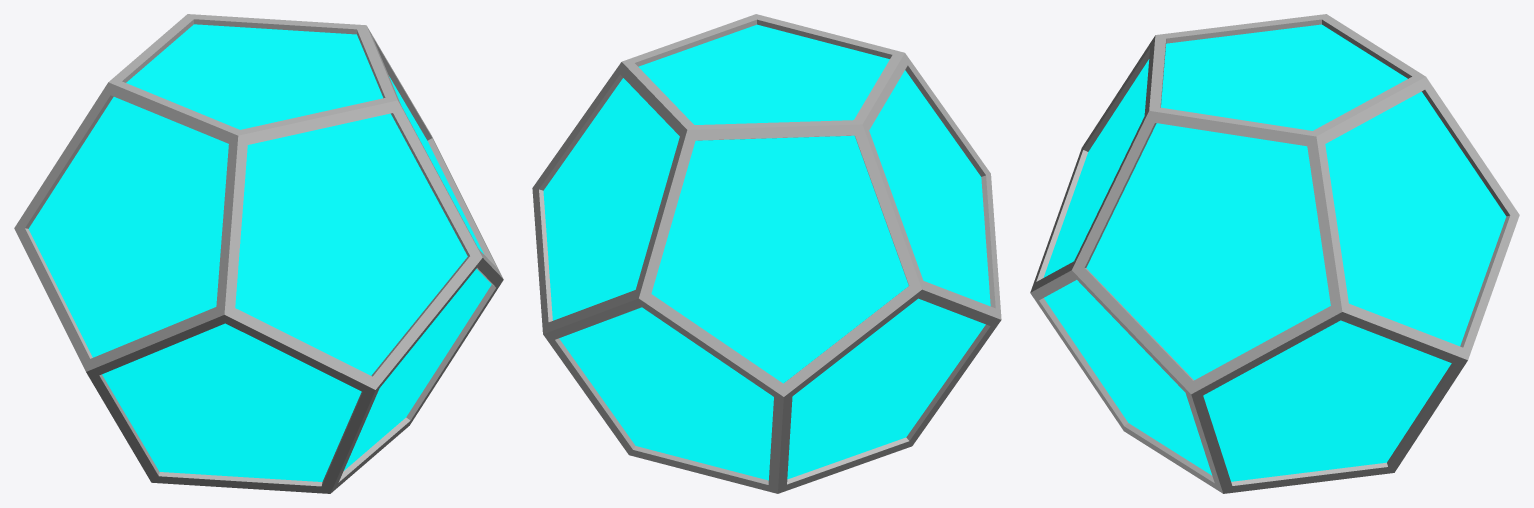
The model's file is SFI0210006.fbx.
The picture shows the model from 3 angles, left to right: view 1: azimuth 30°, elevation 25°; view 2: azimuth 150°, elevation 25°; view 3: azimuth 270°, elevation 25°; orthographic projection. The views are drawn at different scales.
Parts seen in each view (by area): view 1: smSFI0210006; view 2: smSFI0210006; view 3: smSFI0210006.
Part boxes in pixels (x1=…): smSFI0210006: x1=14, y1=14, x2=503, y2=493; smSFI0210006: x1=532, y1=14, x2=1001, y2=493; smSFI0210006: x1=1030, y1=14, x2=1519, y2=493.
Bounding box in the file's own units: 134 × 113 × 139.
